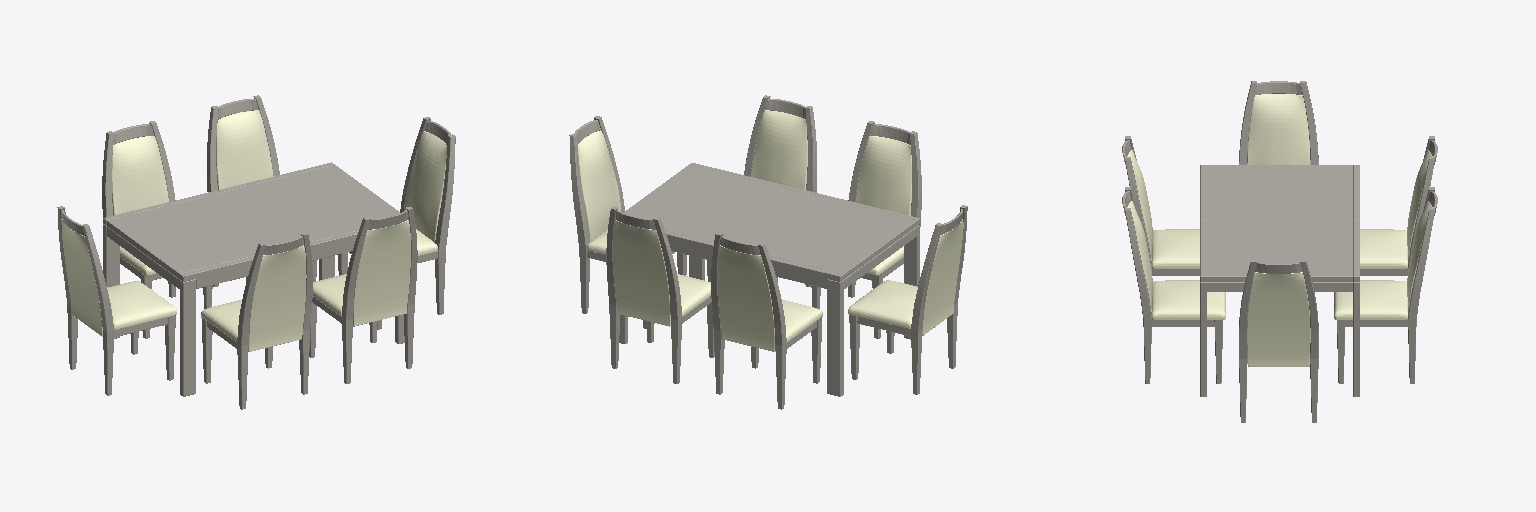
File: Table_With_Chairs.obj
The picture shows the model from 3 angles: view 1: azimuth 30°, elevation 25°; view 2: azimuth 150°, elevation 25°; view 3: azimuth 270°, elevation 25°; orthographic projection.
Visible parts, largest first — view 1: MDTC_obj06, MDTC_obj15, MDTC_obj10, MDTC_obj21, MDTC_obj18, MDTC_obj07, MDTC_obj12, MDTC_obj02, MDTC_obj27, MDTC_obj05, MDTC_obj31, MDTC_obj04 (+4 smaller); view 2: MDTC_obj06, MDTC_obj18, MDTC_obj21, MDTC_obj15, MDTC_obj10, MDTC_obj23, MDTC_obj25, MDTC_obj02, MDTC_obj27, MDTC_obj05, MDTC_obj31, MDTC_obj04 (+4 smaller); view 3: MDTC_obj06, MDTC_obj27, MDTC_obj05, MDTC_obj31, MDTC_obj14, MDTC_obj26, MDTC_obj09, MDTC_obj20, MDTC_obj12, MDTC_obj25, MDTC_obj02, MDTC_obj18 (+6 smaller).
Boxes of the visible parts, x1,y1,x2,y2 form: MDTC_obj06: [103, 162, 404, 396]; MDTC_obj15: [353, 220, 410, 326]; MDTC_obj10: [248, 245, 306, 351]; MDTC_obj21: [216, 110, 273, 189]; MDTC_obj18: [112, 136, 168, 214]; MDTC_obj07: [201, 232, 312, 409]; MDTC_obj12: [309, 207, 417, 383]; MDTC_obj02: [57, 206, 175, 395]; MDTC_obj27: [404, 131, 446, 242]; MDTC_obj05: [62, 219, 102, 336]; MDTC_obj31: [338, 117, 455, 329]; MDTC_obj04: [107, 281, 176, 329]; MDTC_obj06: [619, 163, 919, 396]; MDTC_obj18: [717, 245, 775, 351]; MDTC_obj21: [613, 220, 670, 326]; MDTC_obj15: [751, 110, 807, 189]; MDTC_obj10: [855, 136, 911, 215]; MDTC_obj23: [711, 232, 821, 409]; MDTC_obj25: [606, 207, 714, 383]; MDTC_obj02: [849, 205, 967, 394]; MDTC_obj27: [578, 130, 620, 241]; MDTC_obj05: [922, 219, 963, 335]; MDTC_obj31: [569, 116, 686, 328]; MDTC_obj04: [848, 280, 917, 328]; MDTC_obj06: [1200, 165, 1359, 396]; MDTC_obj27: [1247, 272, 1310, 366]; MDTC_obj05: [1247, 94, 1310, 164]; MDTC_obj31: [1239, 259, 1318, 422]; MDTC_obj14: [1152, 280, 1225, 319]; MDTC_obj26: [1334, 280, 1407, 319]; MDTC_obj09: [1152, 229, 1199, 268]; MDTC_obj20: [1360, 229, 1407, 268]; MDTC_obj12: [1125, 187, 1222, 383]; MDTC_obj25: [1337, 187, 1434, 383]; MDTC_obj02: [1239, 81, 1318, 164]; MDTC_obj18: [1407, 150, 1432, 260].
Size of the model in its own units: 2480 by 1067 by 1804.